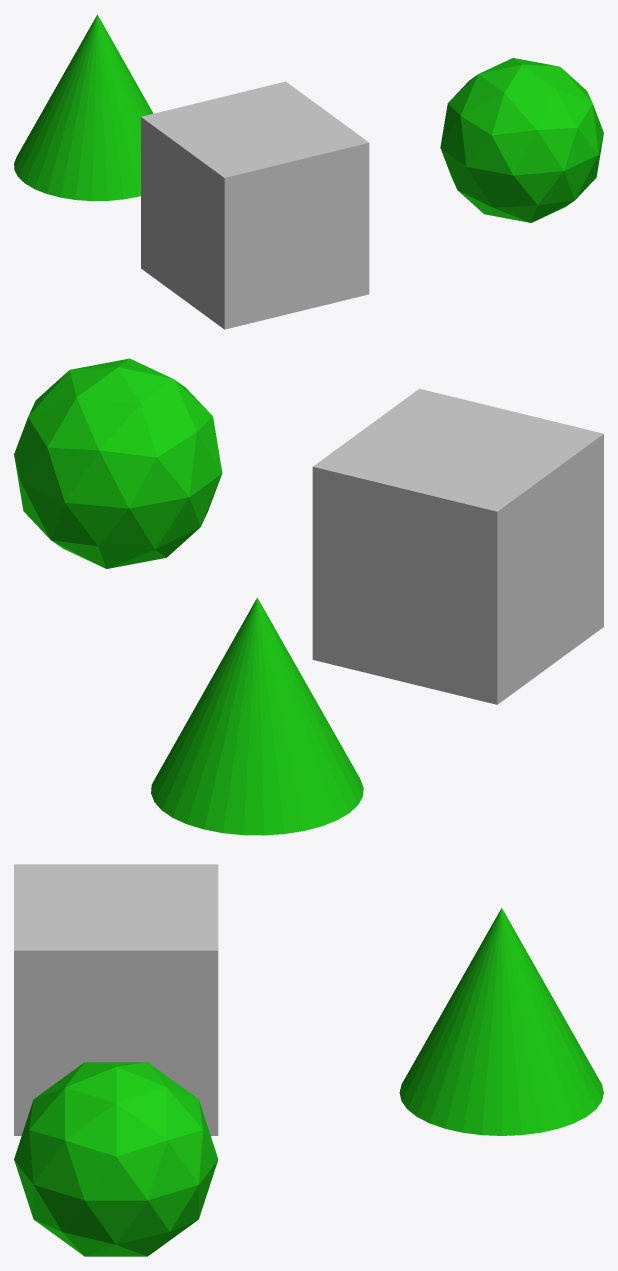
Rendered from custom.obj.
The picture shows the model from 3 angles, top to bottom: view 1: azimuth 30°, elevation 25°; view 2: azimuth 150°, elevation 25°; view 3: azimuth 270°, elevation 25°; orthographic projection. The views are drawn at different scales.
Visible parts, largest first — view 1: Cube, Icosphere, Cone; view 2: Cube, Icosphere, Cone; view 3: Cube, Icosphere, Cone.
Part boxes in pixels (x1,y1,x2,y2): Cube: (141,81,369,329); Icosphere: (440,58,603,222); Cone: (14,14,153,201); Cube: (312,388,603,704); Icosphere: (14,358,222,568); Cone: (151,597,363,835); Cube: (14,864,218,1135); Icosphere: (14,1062,218,1256); Cone: (399,908,603,1135).
Size of the model in its own units: 5.64 by 2 by 5.77.
